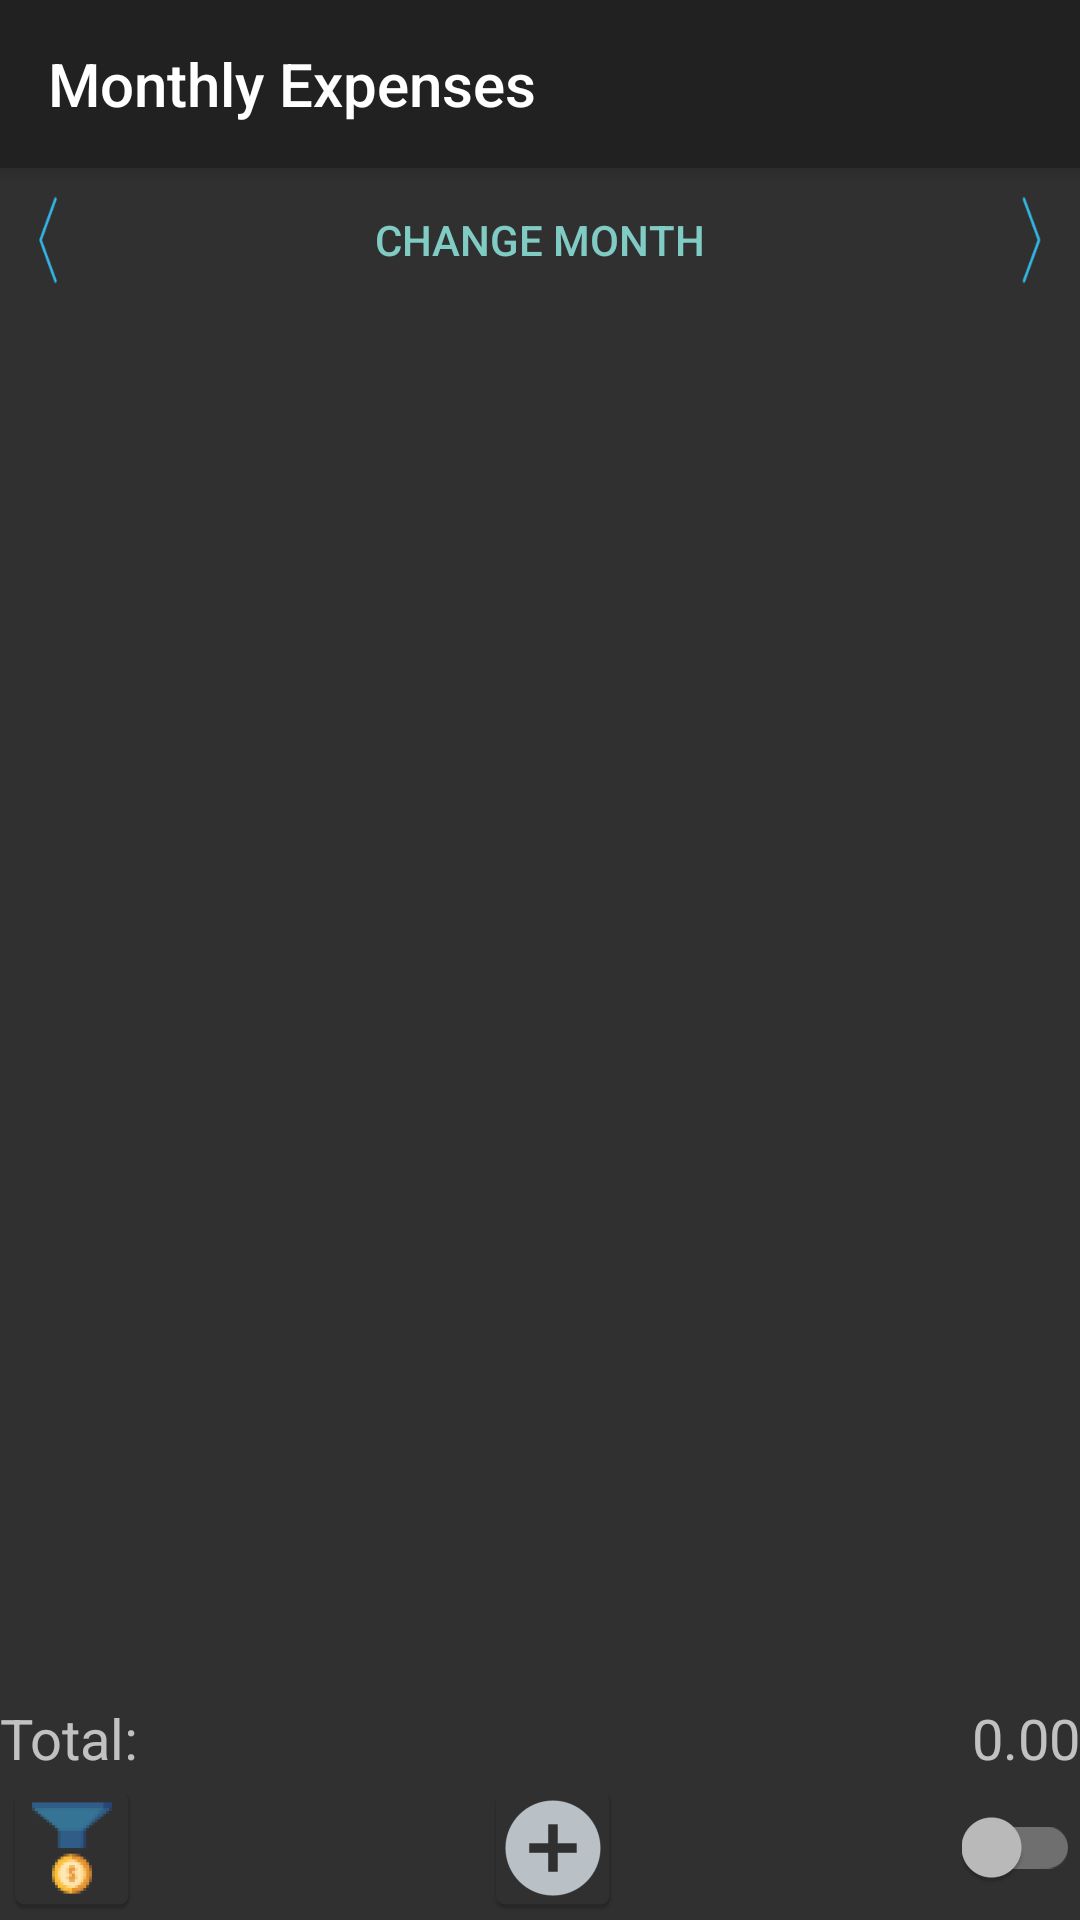

Point at icon controls on the screen. Image size 1080x1920, points as (x=x, y=y).
arrow left: (x=48, y=240)
arrow right: (x=1031, y=240)
